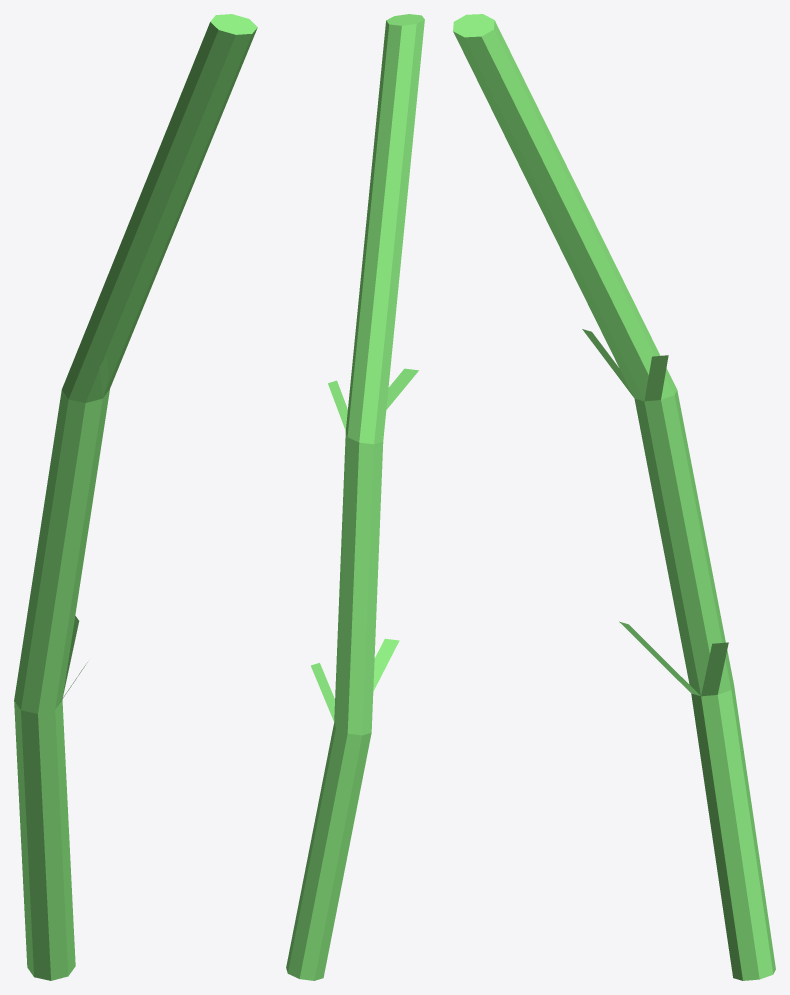
Rendered from Bamboo.fbx.
The picture shows the model from 3 angles, left to right: view 1: azimuth 30°, elevation 25°; view 2: azimuth 150°, elevation 25°; view 3: azimuth 270°, elevation 25°; orthographic projection. The views are drawn at different scales.
Parts seen in each view (by area): view 1: Cylinder.012; view 2: Cylinder.012; view 3: Cylinder.012.
Part boxes in pixels (box(x1,y1,x2,y2)): Cylinder.012: box(14, 14, 257, 980); Cylinder.012: box(286, 14, 424, 980); Cylinder.012: box(453, 14, 775, 980).
Size of the model in its own units: 35.45 by 339 by 102.
